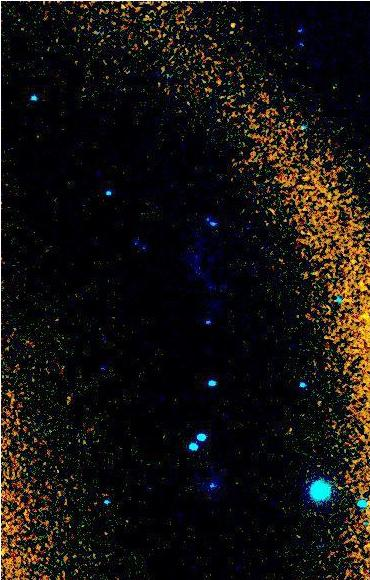star: (216, 9, 246, 39)
